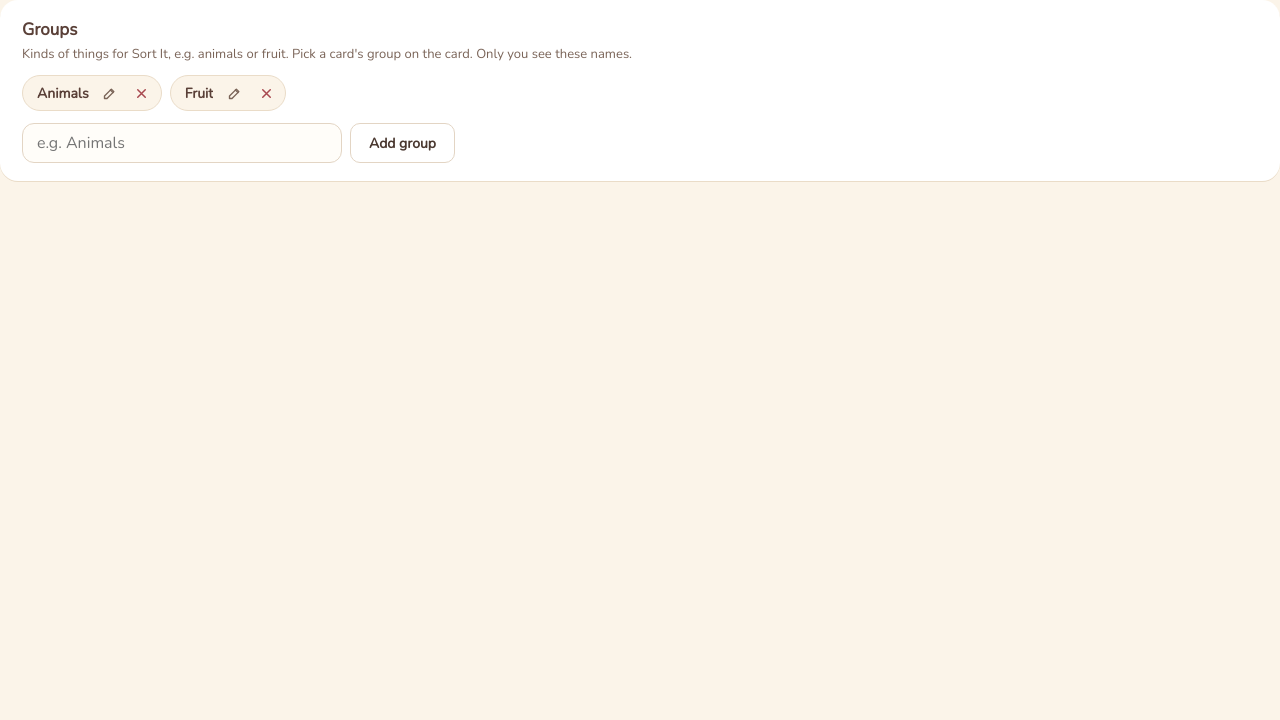
Test case: GroupsPanel (A17) › delete asks for a confirmation that says how many cards use it; Cancel deletes nothing
The image size is (1280, 720).
Click the button named "Delete group Animals": (142, 93) [127,78,157,108]
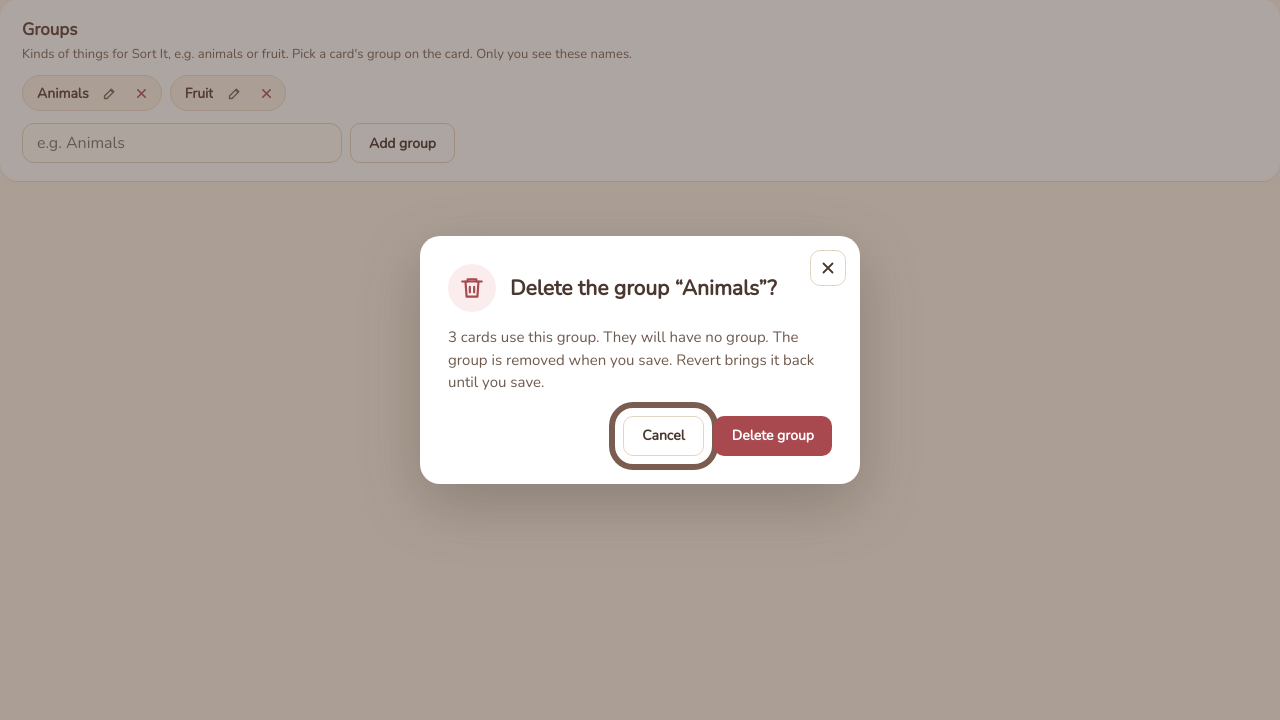
Check: the heading reads "Delete the group “Animals”?", box [510,274,777,302]
Check: the dialog shows "3 cards use this group. They will have no group.", box [448,327,814,392]
Click the button "Cancel": (664, 436) [623,416,704,456]
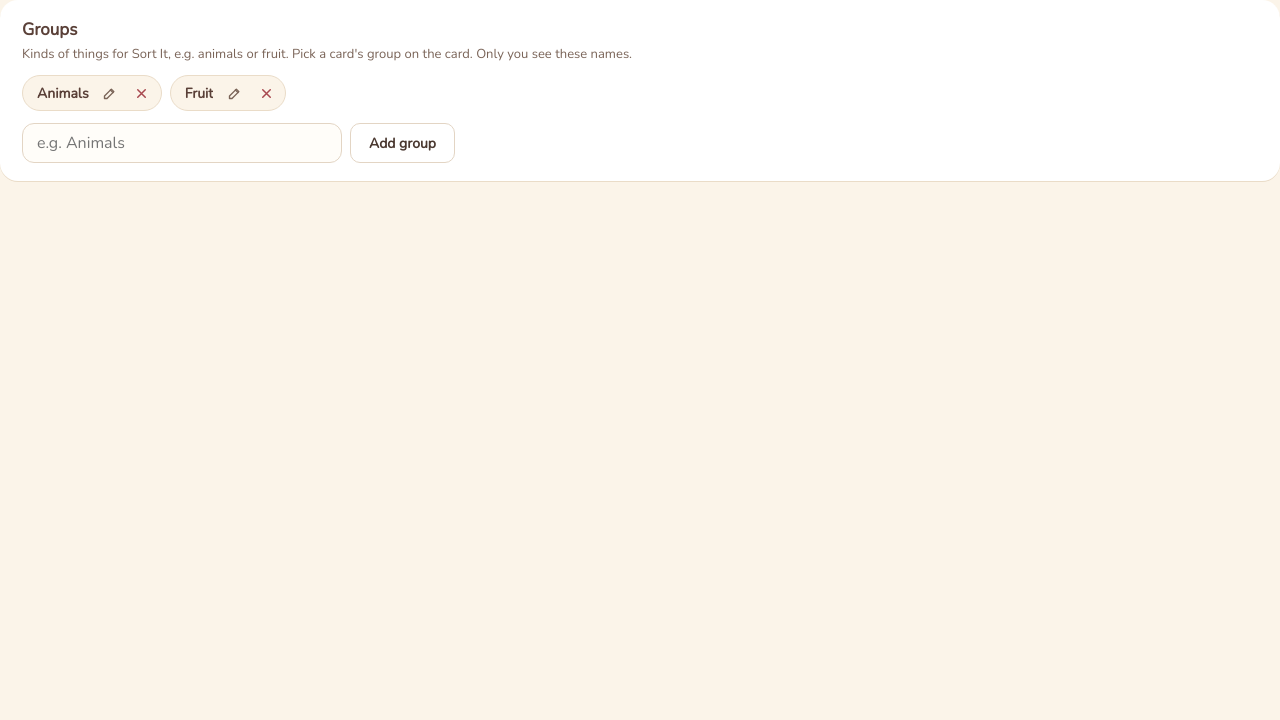
Check: the dialog is gone
Click the button named "Delete group Fruit": (266, 93) [251,78,281,108]
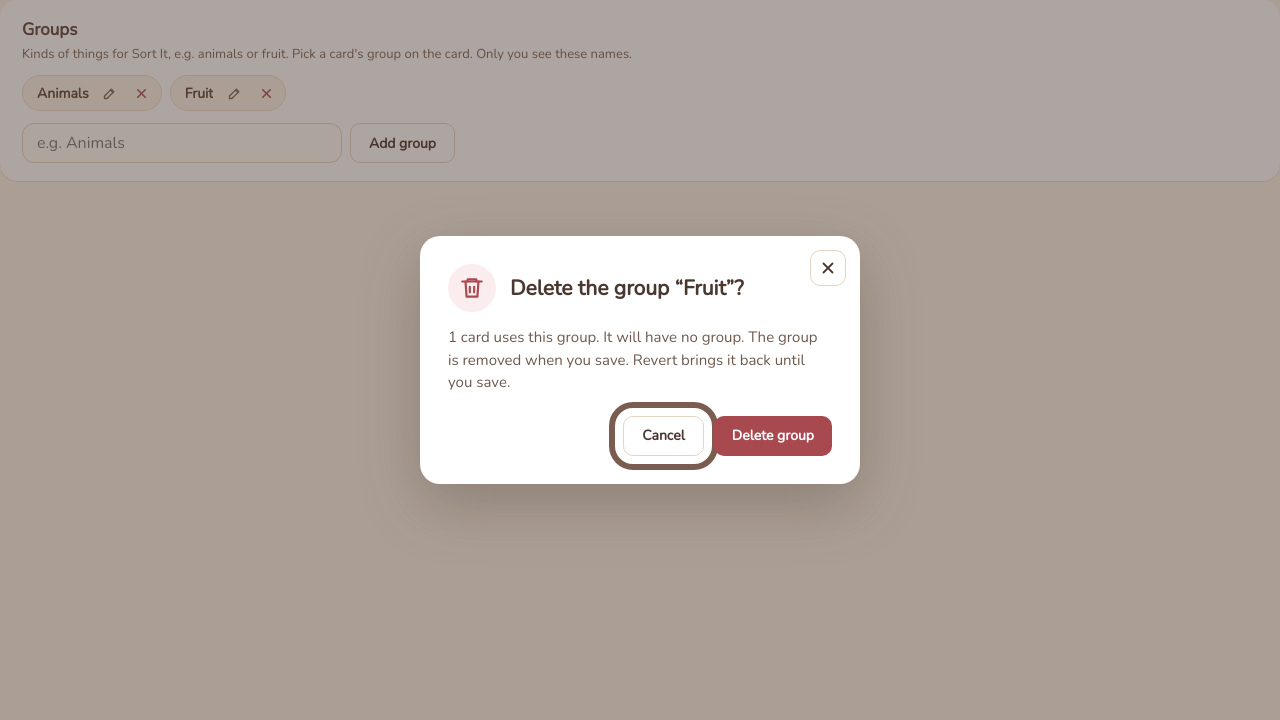
Check: the dialog shows "1 card uses this group. It will have no group.", box [448,327,818,392]
Click the button "Delete group": (773, 436) [714,416,832,456]
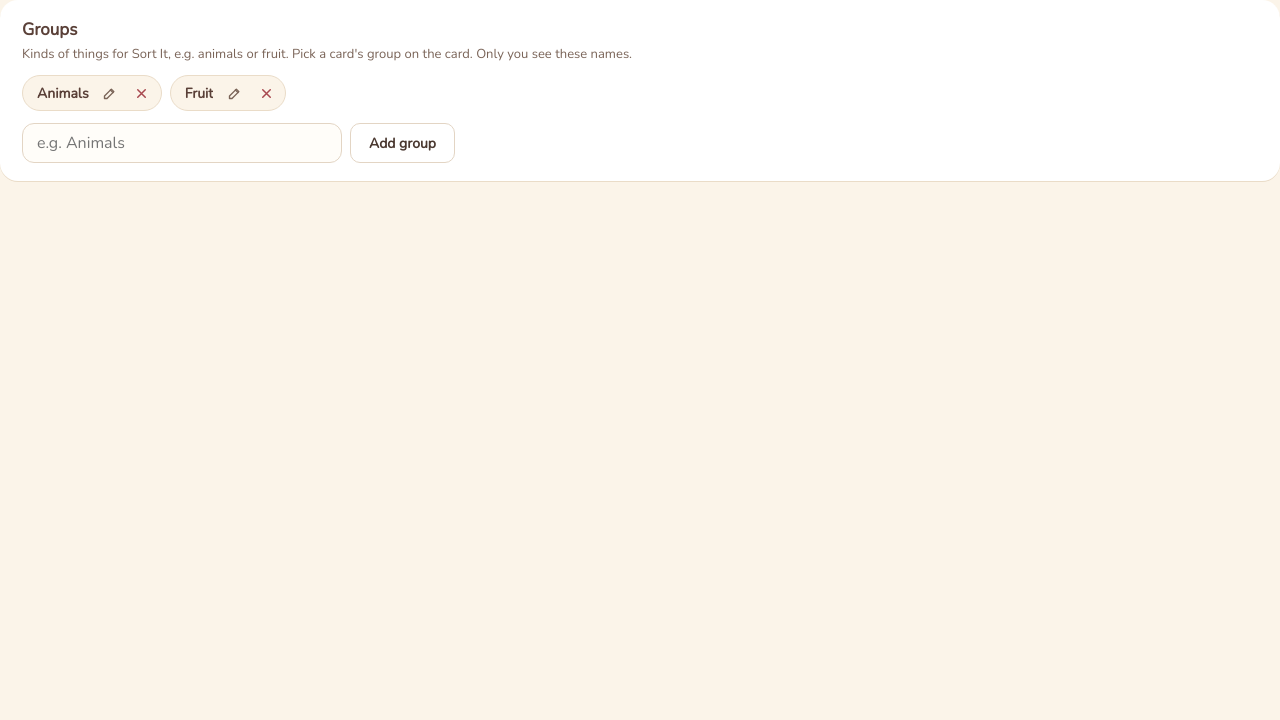
Check: the dialog is gone
